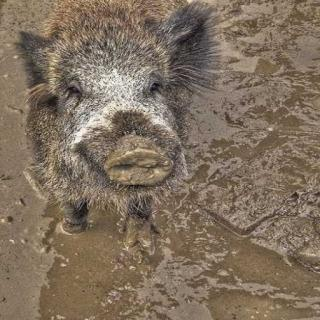Pig: (10, 0, 225, 251)
